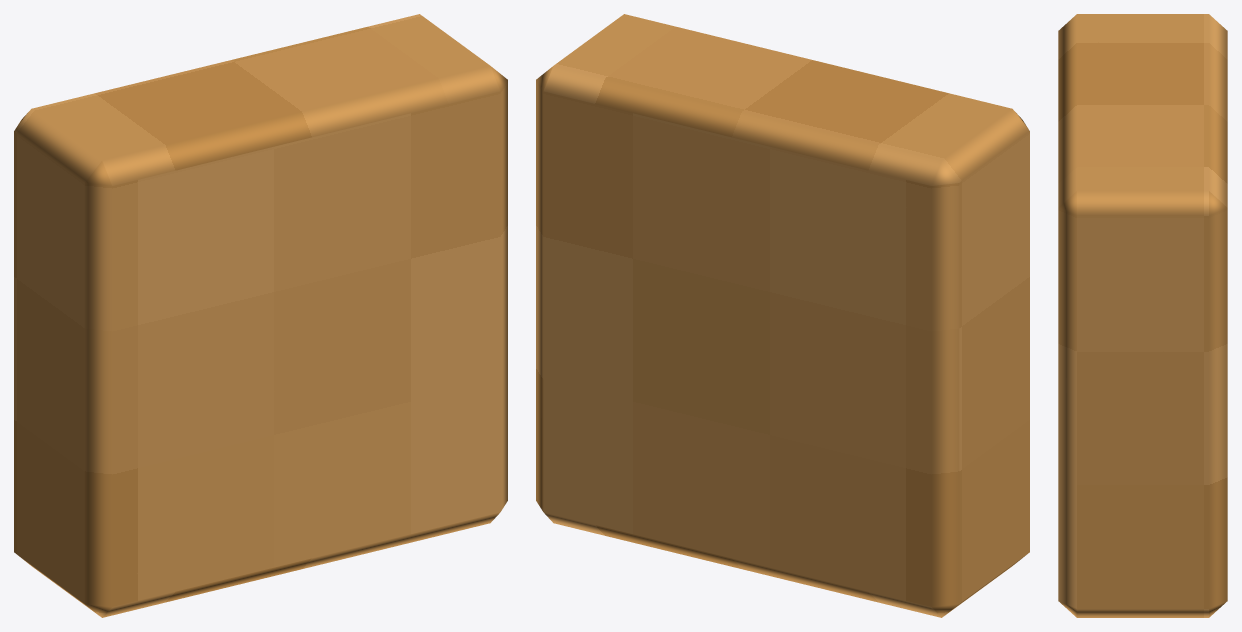
Rendered from Corner-peg-2.glb.
3 renders of one model, left to right at view 1: azimuth 30°, elevation 25°; view 2: azimuth 150°, elevation 25°; view 3: azimuth 270°, elevation 25°, orthographic. The views are drawn at different scales.
Parts seen in each view (by area): view 1: Corner-peg-2; view 2: Corner-peg-2; view 3: Corner-peg-2.
Boxes of the visible parts, x1,y1,x2,y2 form: Corner-peg-2: [14, 14, 507, 617]; Corner-peg-2: [536, 14, 1029, 617]; Corner-peg-2: [1058, 14, 1227, 617].
Bounding box in the file's own units: 0.121 × 0.125 × 0.045.
Materials: 1 (1 with a texture image).
